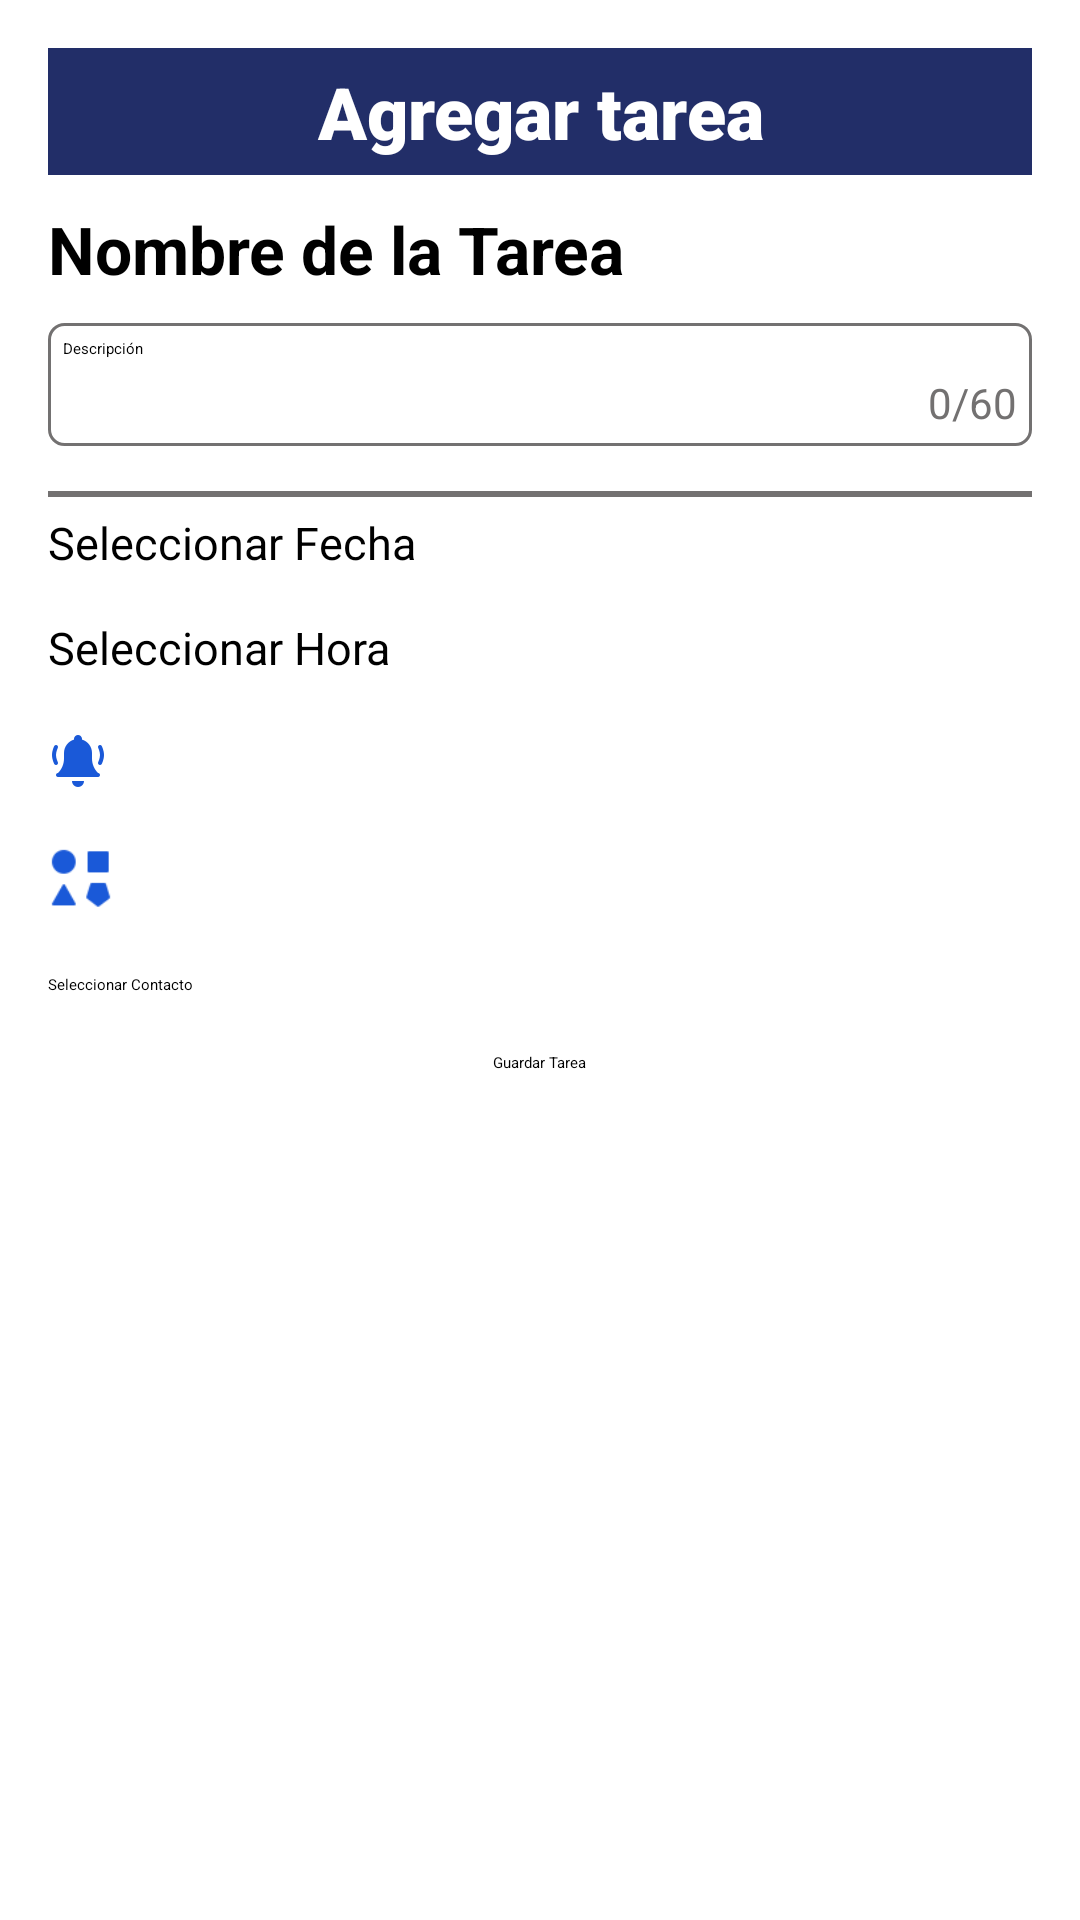

Icon bounding boxes for this 1080×1920 phone screenshot, format rect(x1, y1, x2, y2):
alert: rect(52, 735, 104, 787)
category: rect(51, 849, 111, 907)
